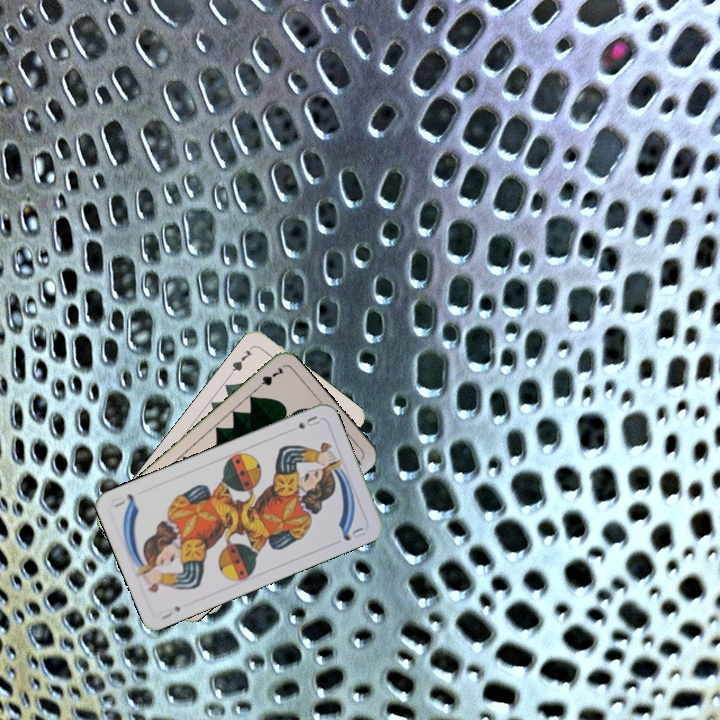G7: (250, 363, 287, 394), (227, 342, 256, 377)
SU: (294, 411, 322, 432), (157, 602, 183, 622)
